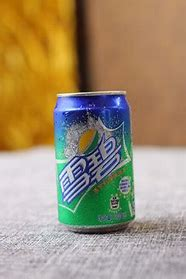Sprite: (53, 89, 137, 234)
